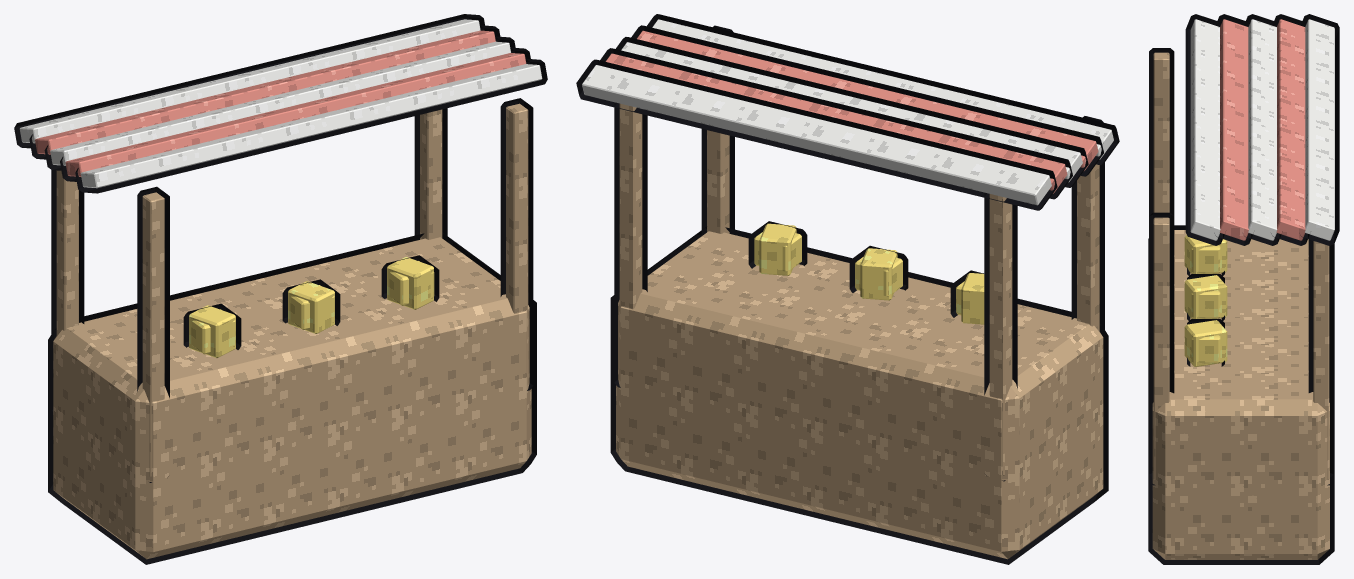
The model's file is build_shop_stall.glb.
The picture shows the model from 3 angles, left to right: view 1: azimuth 30°, elevation 25°; view 2: azimuth 150°, elevation 25°; view 3: azimuth 270°, elevation 25°; orthographic projection. The views are drawn at different scales.
Visible parts, largest first — view 1: model; view 2: model; view 3: model.
Part boxes in pixels (x1,y1,x2,y2): model: (14, 14, 547, 564); model: (576, 14, 1119, 564); model: (1148, 14, 1339, 564).
Bounding box in the file's own units: 2.75 × 2.27 × 1.08.
5 materials, 4 textured.
